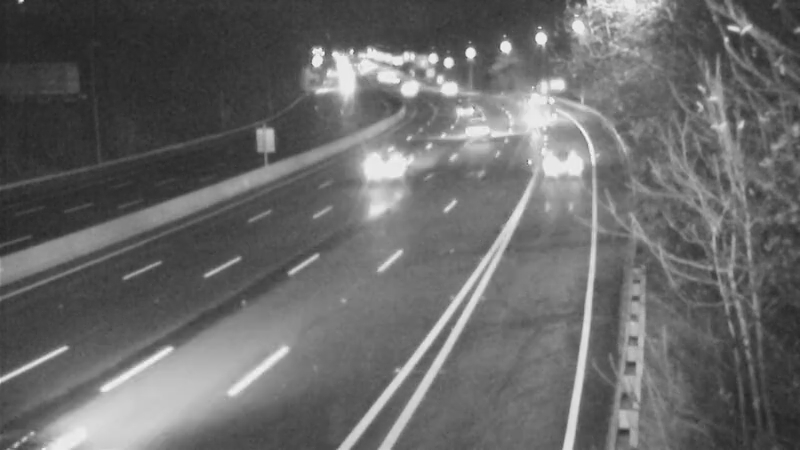vehicle: (524, 130, 604, 210), (348, 122, 428, 202), (421, 61, 471, 111), (388, 68, 438, 118), (431, 82, 481, 132), (512, 88, 562, 138), (459, 108, 509, 158)
